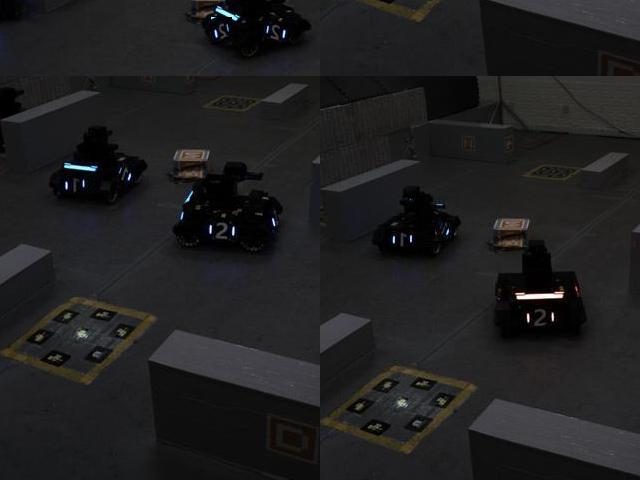armor: (517, 306, 562, 334), (204, 216, 239, 244), (263, 18, 291, 45), (62, 174, 92, 199), (211, 17, 233, 46), (117, 162, 136, 190), (391, 231, 415, 251), (436, 221, 456, 243)
